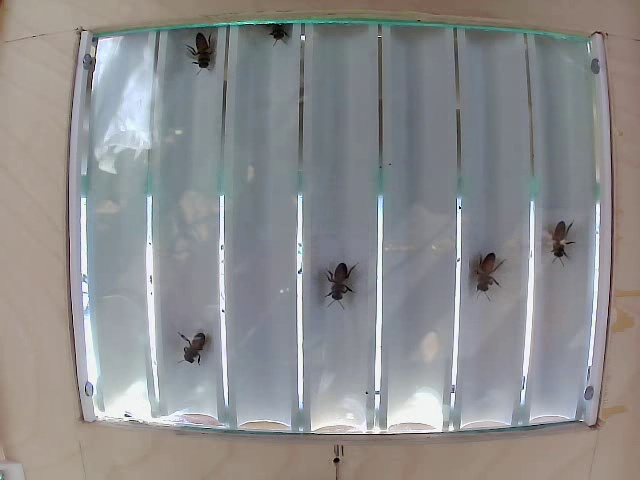bee: (315, 253, 349, 303), (547, 217, 580, 267), (185, 35, 226, 73), (178, 335, 224, 367), (476, 247, 507, 286)
